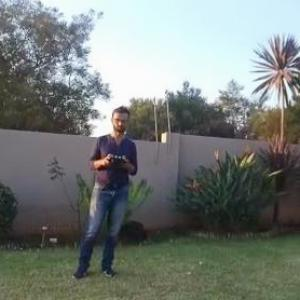follow: (64, 102, 138, 282)
